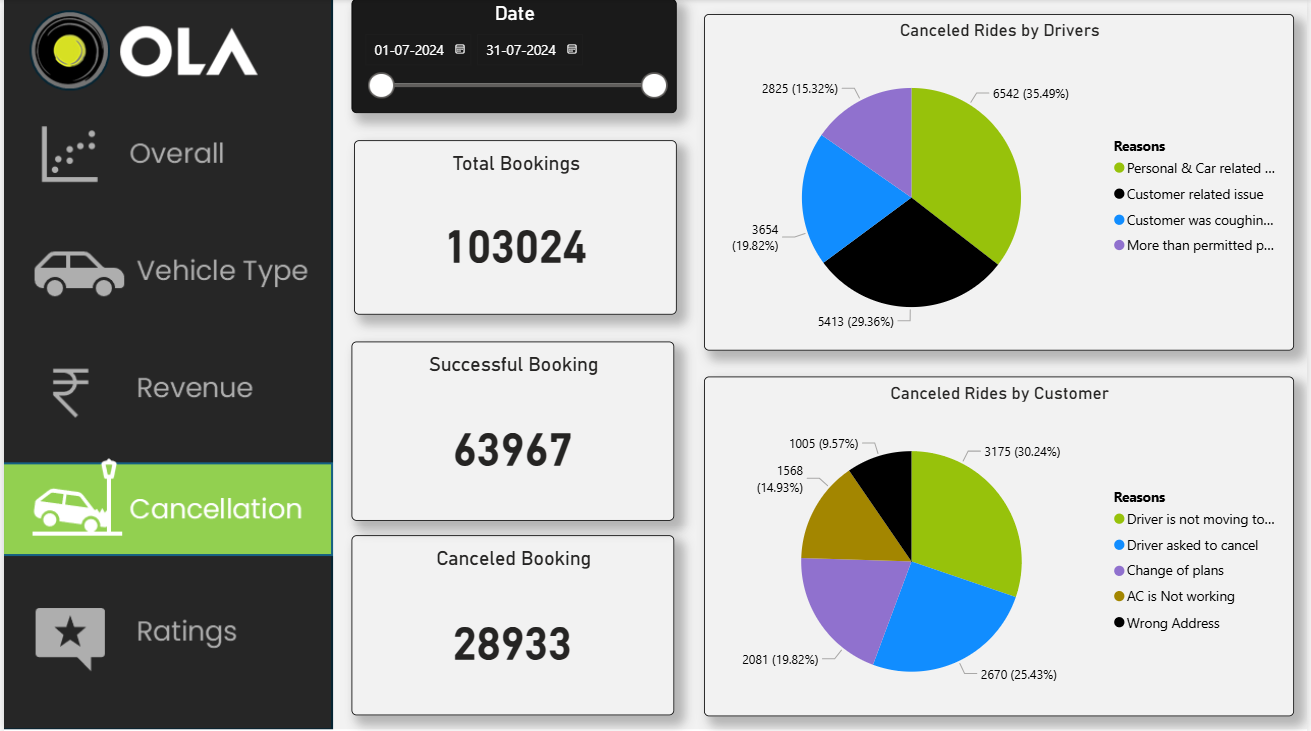

The page's visual inventory and layout, read from the dashboard file:
{"tool":"powerbi","page":{"name":"Cancellation","canvas":[1280,720],"ordinal":3},"visuals":[{"type":"actionButton","box":[0,111.7,321.5,89.6],"z":0},{"type":"actionButton","box":[0,203.7,321.5,130.1],"z":1000},{"type":"actionButton","box":[0,333.7,321.5,105.5],"z":2000},{"type":"actionButton","box":[0,571.8,321.5,132.5],"z":3000},{"type":"card","title":"Total Bookings","fields":{"Values":["CountNonNull(Bookings.Booking_Status)"]},"box":[343.1,138.6,317,171.5],"z":4000},{"type":"card","title":"Successful Booking","fields":{"Values":["CountNonNull(Bookings.Booking_Status)"]},"box":[341.7,336.2,317,175.6],"z":5000},{"type":"card","title":"Canceled Booking","fields":{"Values":["CountNonNull(Bookings.Booking_Status)"]},"box":[341.7,526.9,317,177],"z":6000},{"type":"pieChart","title":"Canceled Rides by Drivers","fields":{"Category":["Bookings.Canceled_Rides_by_Driver"],"Y":["CountNonNull(Bookings.Canceled_Rides_by_Driver)"]},"box":[687.5,15.1,579.1,330.7],"z":7000},{"type":"pieChart","title":"Canceled Rides by Customer ","fields":{"Category":["Bookings.Canceled_Rides_by_Customer"],"Y":["CountNonNull(Bookings.Canceled_Rides_by_Customer)"]},"box":[687.5,370.5,579.1,333.4],"z":8000},{"type":"slicer","title":"Date","fields":{"Values":["Bookings.Date"]},"box":[341.1,0,319,111.7],"z":9000}]}

Visuals, with their boxes in screenshot pixels (x1, y1, x2, y2), scaled from the page's 1280x720 canvas onto the 1311x731 screenshot:
actionButton: [left=0, top=113, right=329, bottom=204]
actionButton: [left=0, top=207, right=329, bottom=339]
actionButton: [left=0, top=339, right=329, bottom=446]
actionButton: [left=0, top=581, right=329, bottom=715]
"Total Bookings" card: [left=351, top=141, right=676, bottom=315]
"Successful Booking" card: [left=350, top=341, right=675, bottom=520]
"Canceled Booking" card: [left=350, top=535, right=675, bottom=715]
"Canceled Rides by Drivers" pieChart: [left=704, top=15, right=1297, bottom=351]
"Canceled Rides by Customer " pieChart: [left=704, top=376, right=1297, bottom=715]
"Date" slicer: [left=349, top=0, right=676, bottom=113]
